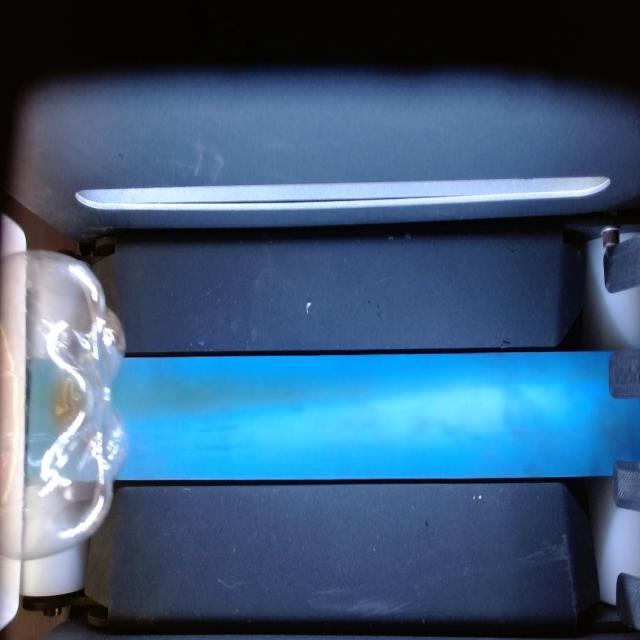bottle: (0, 220, 126, 560)
